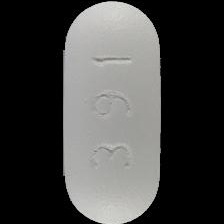57664-391: (0, 0, 224, 224)
